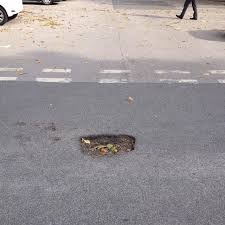pothole: (66, 128, 155, 171)
